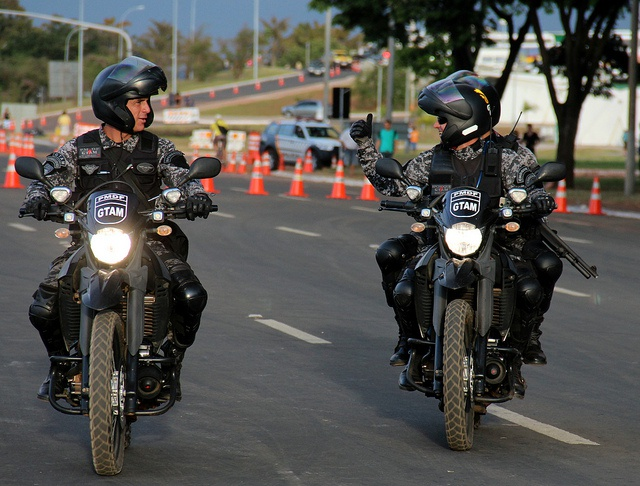non-vehicle: (16, 156, 227, 476), (371, 155, 585, 447)
